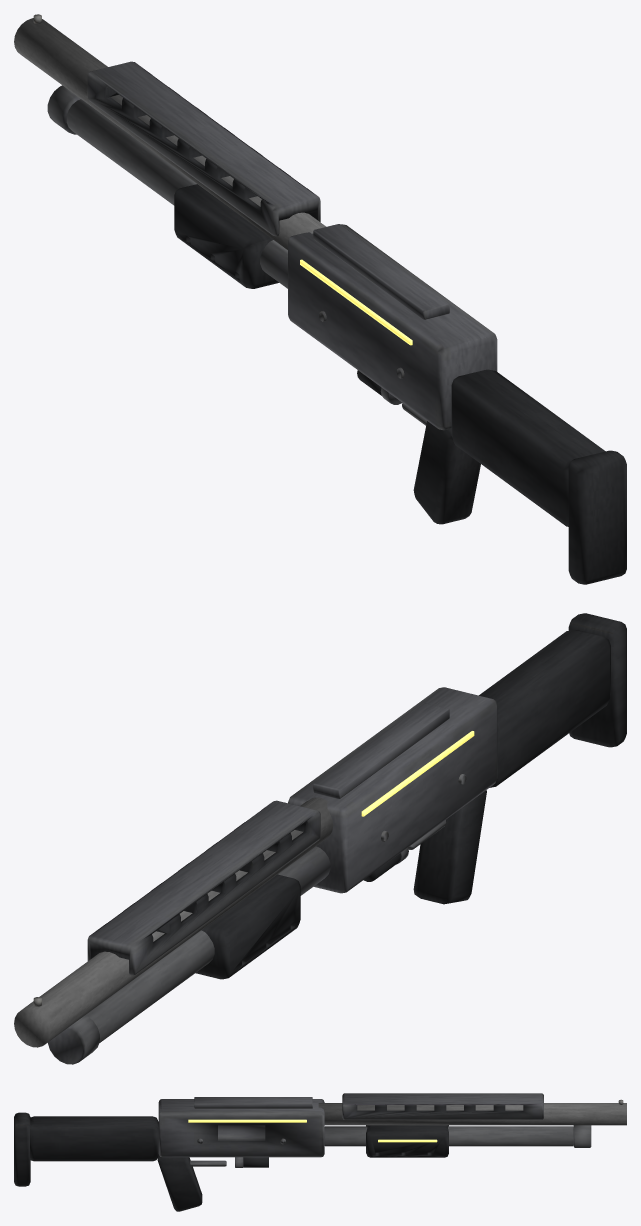
File: shotgun-legacy.glb
3 views of the same model, one above another, from view 1: azimuth 30°, elevation 25°; view 2: azimuth 150°, elevation 25°; view 3: azimuth 270°, elevation 25° (orthographic). The views are drawn at different scales.
Visible parts, largest first — view 1: ShotgunBody, ShotgunAction, ShotgunAccent; view 2: ShotgunBody, ShotgunAction, ShotgunAccent; view 3: ShotgunBody, ShotgunAction, ShotgunAccent, ShotgunMag.
Boxes of the visible parts, left/top/right/bottom form: ShotgunBody: left=14, top=14, right=626, bottom=584; ShotgunAction: left=174, top=184, right=278, bottom=288; ShotgunAccent: left=300, top=259, right=412, bottom=345; ShotgunBody: left=14, top=613, right=626, bottom=1064; ShotgunAction: left=195, top=874, right=300, bottom=979; ShotgunAccent: left=361, top=731, right=474, bottom=816; ShotgunBody: left=14, top=1093, right=626, bottom=1211; ShotgunAction: left=366, top=1125, right=448, bottom=1157; ShotgunAccent: left=188, top=1119, right=437, bottom=1142; ShotgunMag: left=235, top=1157, right=268, bottom=1167.
Size of the model in its own units: 0.068 by 0.2046 by 1.03.
Materials: 2 (1 with a texture image).
